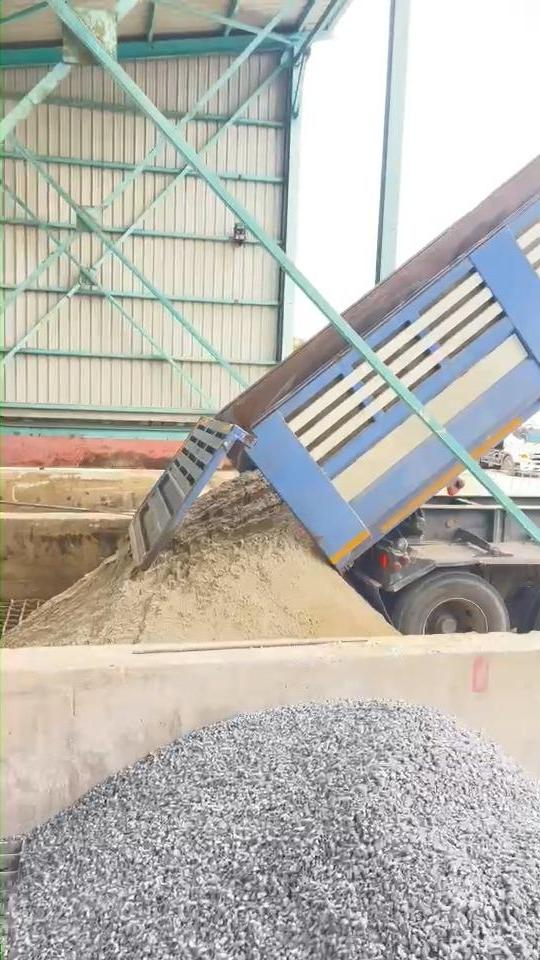gravel: (6, 702, 539, 959)
sand: (5, 473, 395, 646)
